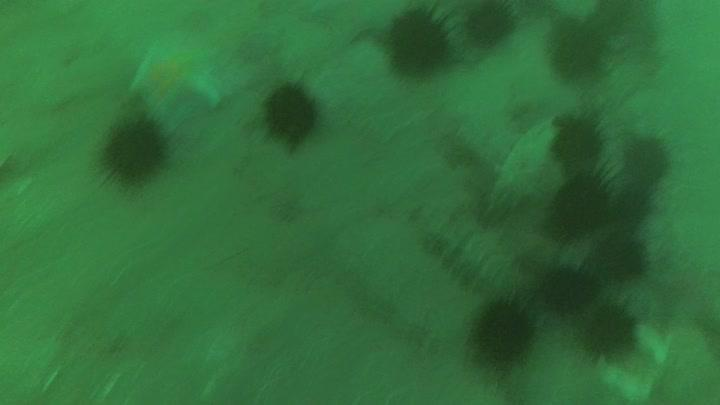urchin: (383, 5, 457, 89), (94, 115, 172, 186), (250, 81, 319, 157), (545, 170, 609, 242), (473, 290, 533, 366), (545, 12, 608, 76), (532, 255, 595, 316), (596, 227, 649, 287), (553, 109, 605, 169), (584, 298, 632, 355), (622, 131, 671, 179), (467, 3, 515, 49), (611, 178, 654, 229)
